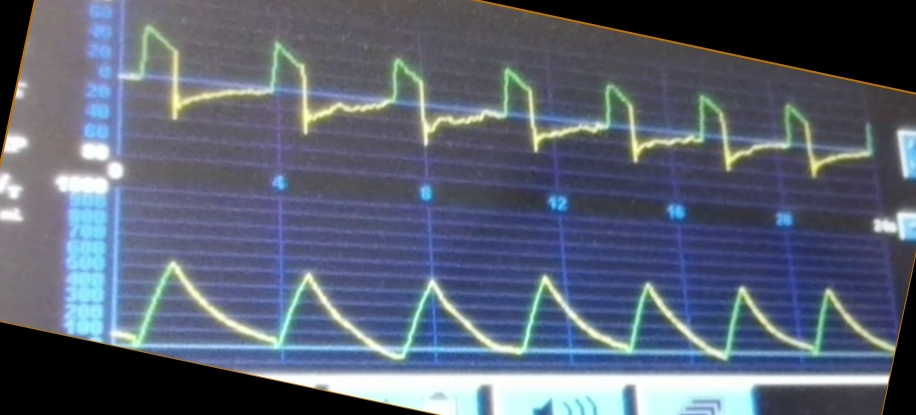Accumulation Flow: (119, 20, 880, 177)
Volume: (117, 251, 898, 366)
